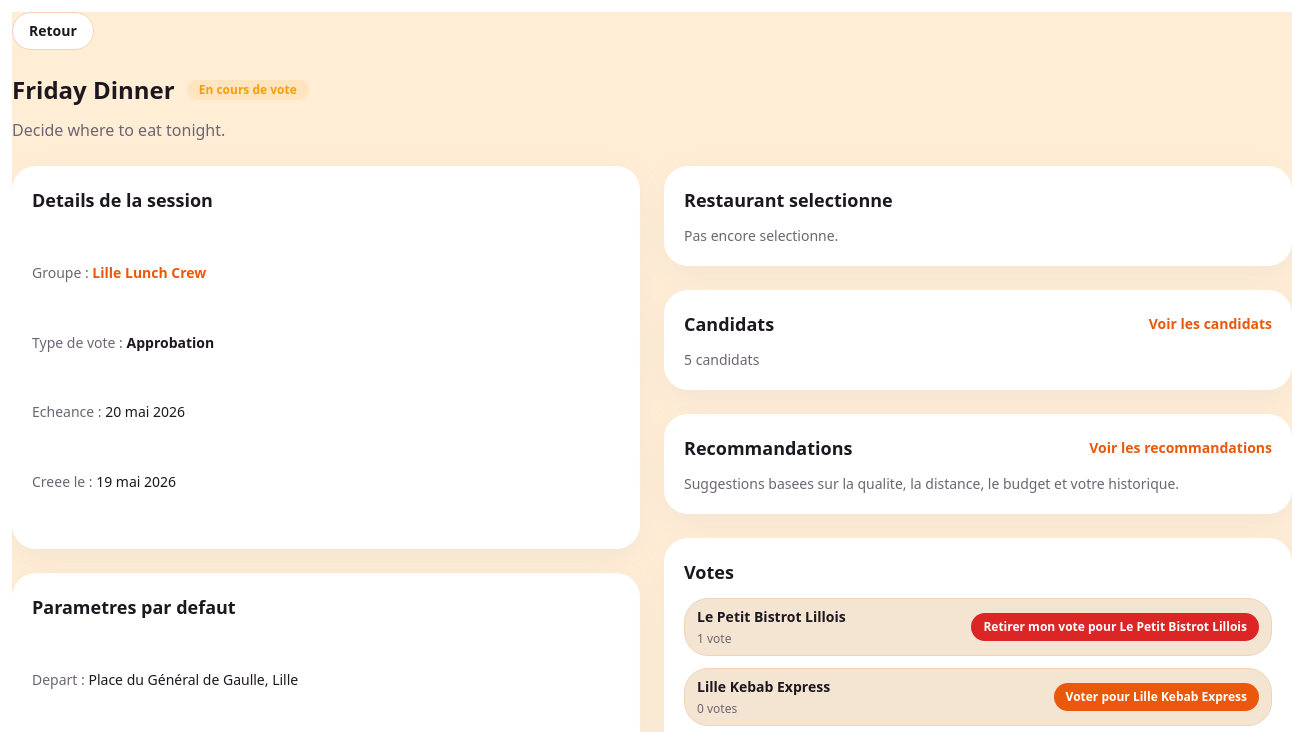
Test: SessionDetailPage › keeps a newly cast vote visible after the mutation succeeds
Click the button "Voter pour Lille Kebab Express": coordinates (1156, 697) [1054,683,1259,711]
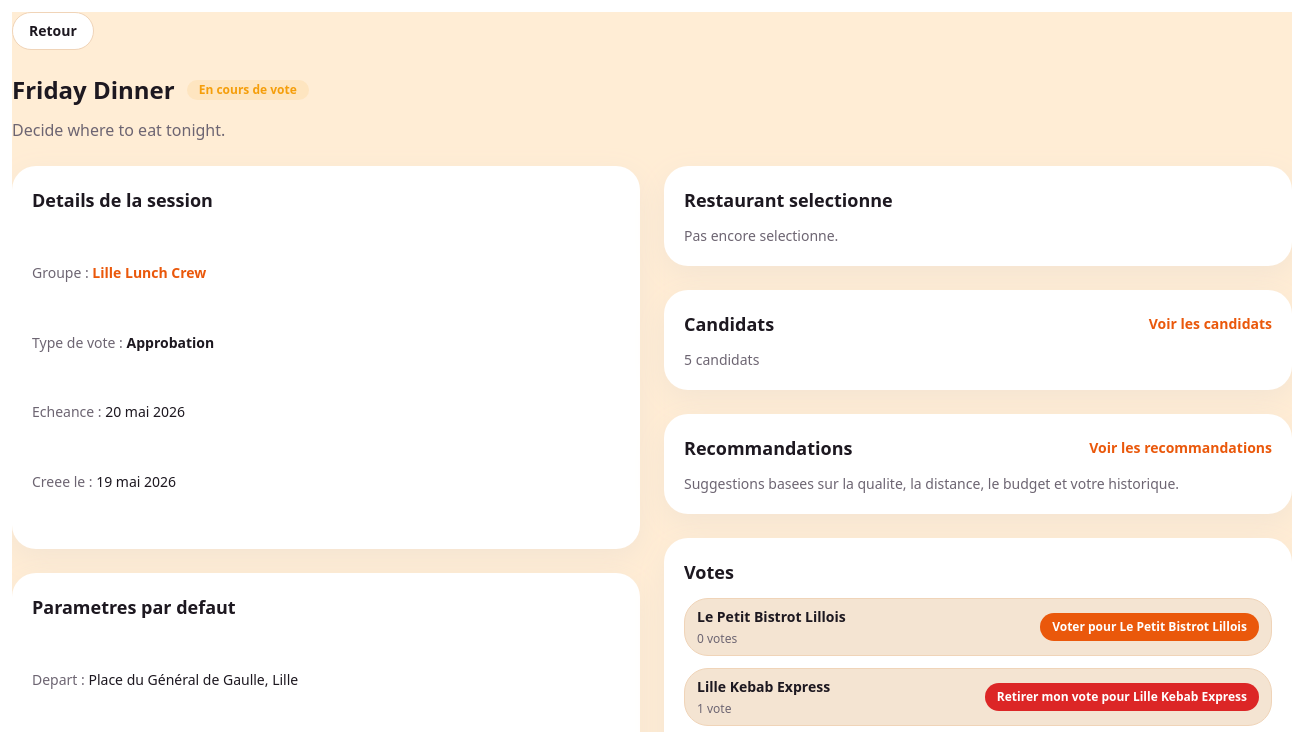
Expected: the button "Retirer mon vote pour Lille Kebab Express" is shown, [985,683,1259,711]
Expected: the button "Voter pour Lille Kebab Express" is gone
